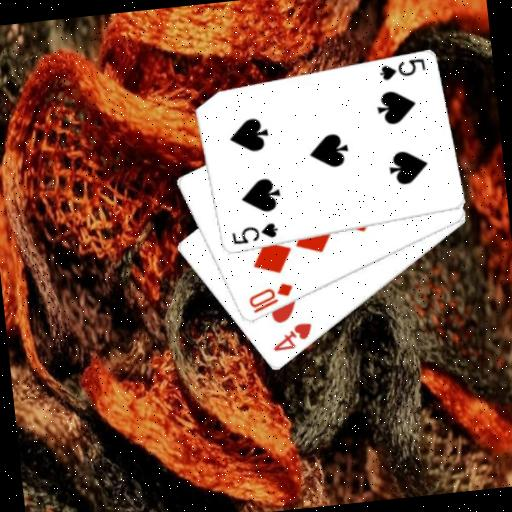10D: (244, 279, 297, 316)
4H: (267, 319, 316, 355)
5S: (227, 219, 280, 247), (375, 56, 428, 84)
